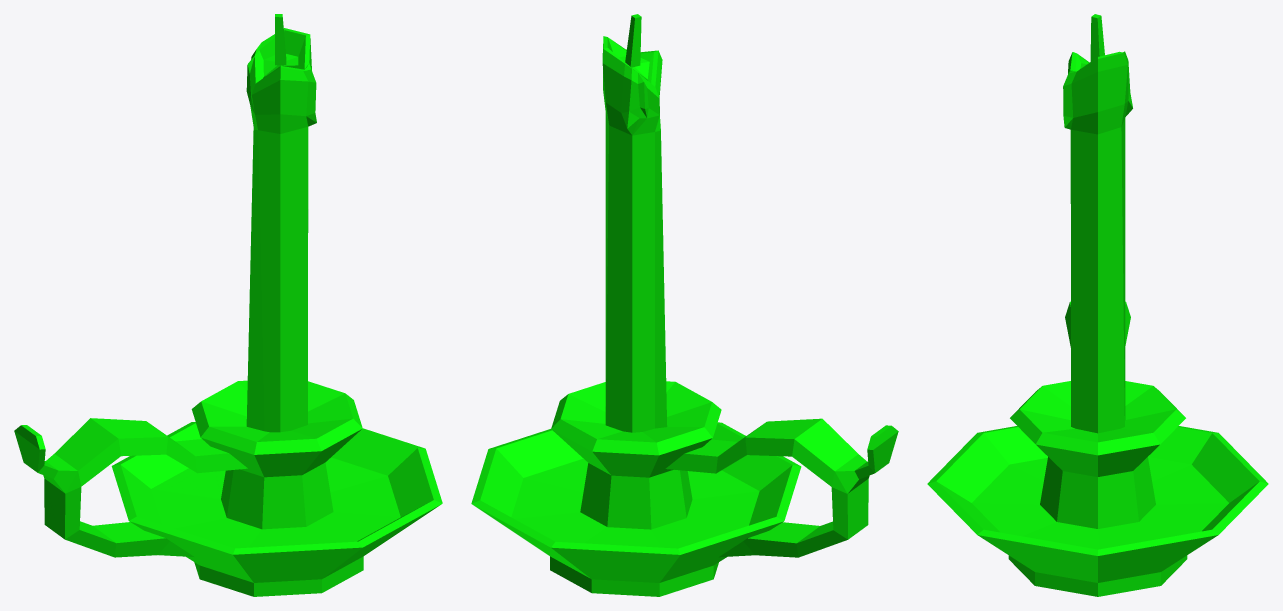
The model's file is SM_Candle_Finger_Holder_B_Unlit_Fantasy.fbx.
The picture shows the model from 3 angles, left to right: view 1: azimuth 30°, elevation 25°; view 2: azimuth 150°, elevation 25°; view 3: azimuth 270°, elevation 25°; orthographic projection.
Parts seen in each view (by area): view 1: candle-finger-holder-b-unlit-fantasy; view 2: candle-finger-holder-b-unlit-fantasy; view 3: candle-finger-holder-b-unlit-fantasy.
Boxes of the visible parts, x1=… form: candle-finger-holder-b-unlit-fantasy: x1=14, y1=14, x2=442, y2=596; candle-finger-holder-b-unlit-fantasy: x1=471, y1=14, x2=898, y2=596; candle-finger-holder-b-unlit-fantasy: x1=927, y1=14, x2=1268, y2=596.
Bounding box in the file's own units: 0.2353 × 0.3074 × 0.1752.
